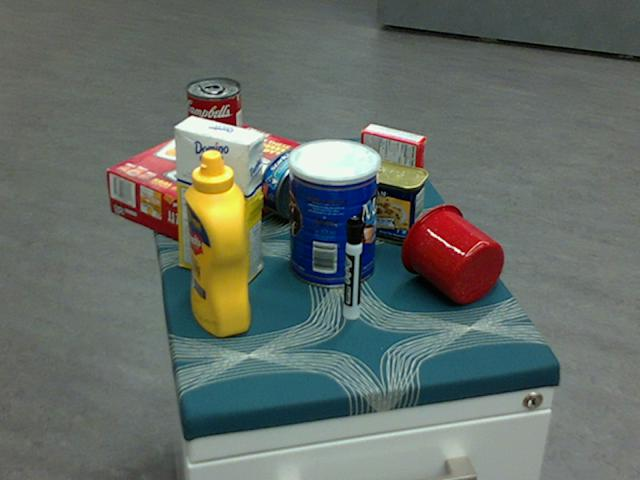cracker_box: (106, 115, 308, 253)
gelatin_box: (360, 124, 426, 191)
large_marker: (344, 216, 362, 320)
master_chef_can: (287, 139, 380, 287)
mug: (400, 203, 504, 303)
mustard_bottle: (184, 150, 249, 337)
potted_meat_can: (341, 157, 427, 242)
sugar_box: (173, 116, 263, 285)
tomato_soup_can: (185, 77, 243, 173)
tuna_fish_can: (257, 148, 322, 218)
